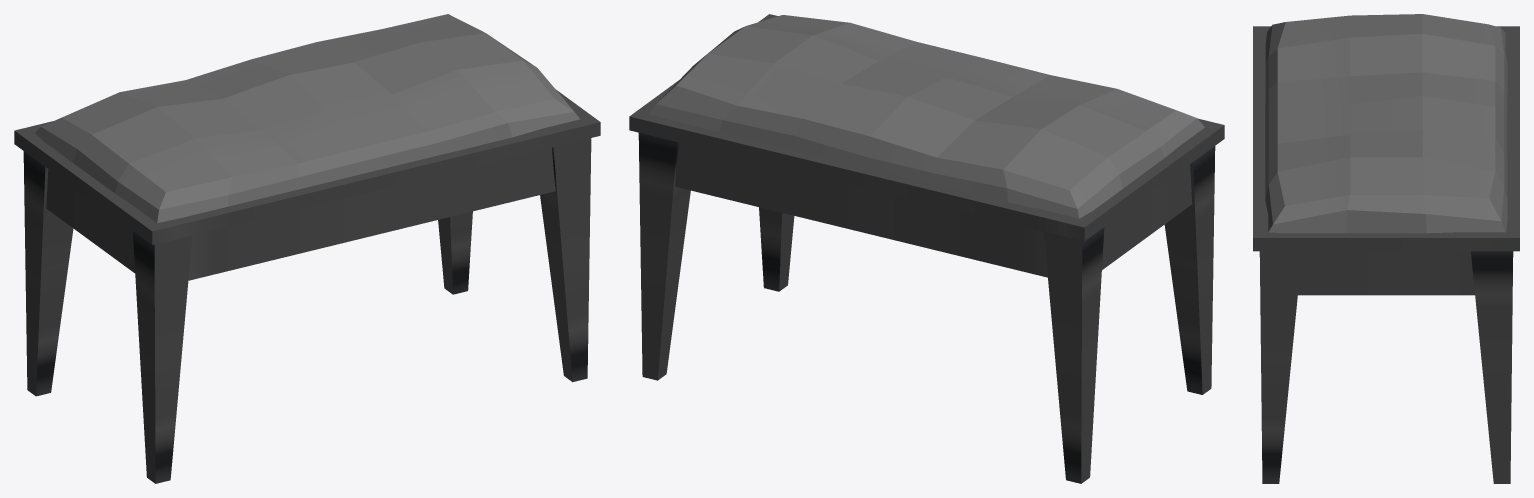
Rendered from entity21210.gltf.
The picture shows the model from 3 angles, left to right: view 1: azimuth 30°, elevation 25°; view 2: azimuth 150°, elevation 25°; view 3: azimuth 270°, elevation 25°; orthographic projection. The views are drawn at different scales.
Visible parts, largest first — view 1: node_piano_chair; view 2: node_piano_chair; view 3: node_piano_chair.
Boxes of the visible parts, box(x1,y1,x2,y2) form: node_piano_chair: box(14, 14, 600, 483); node_piano_chair: box(629, 14, 1224, 483); node_piano_chair: box(1253, 14, 1519, 483).
Bounding box in the file's own units: 0.6841 × 0.4319 × 0.3645.
Materials: 1 (1 with a texture image).
